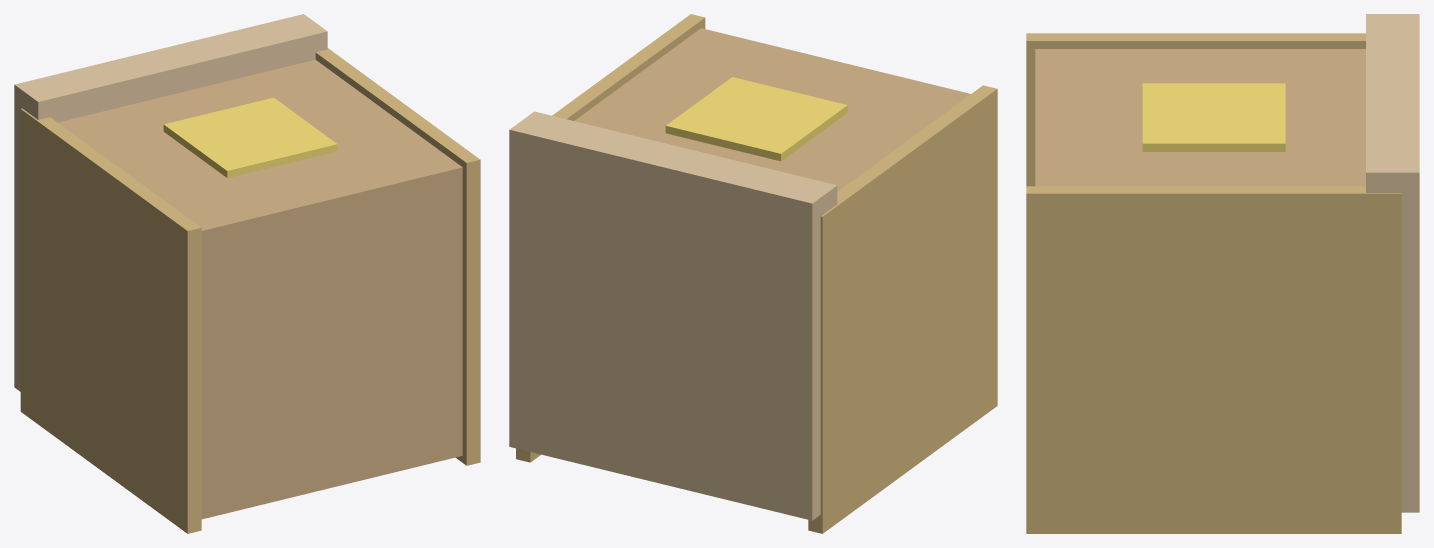
The model's file is SM_Item_Crate_01.glb.
3 views of the same model, side by side, from view 1: azimuth 30°, elevation 25°; view 2: azimuth 150°, elevation 25°; view 3: azimuth 270°, elevation 25° (orthographic). The views are drawn at different scales.
Visible parts, largest first — view 1: SM_Crate_Box, SM_Crate_EdgeY_0, SM_Crate_Lid, SM_Crate_EdgeY_1, SM_Crate_TopEmblem; view 2: SM_Crate_Lid, SM_Crate_EdgeY_0, SM_Crate_Box, SM_Crate_TopEmblem, SM_Crate_EdgeY_1; view 3: SM_Crate_EdgeY_1, SM_Crate_Box, SM_Crate_Lid, SM_Crate_TopEmblem, SM_Crate_EdgeY_0.
Part boxes in pixels (x1=…): SM_Crate_Box: x1=58, y1=59, x2=462, y2=519; SM_Crate_EdgeY_0: x1=20, y1=108, x2=201, y2=533; SM_Crate_Lid: x1=14, y1=14, x2=327, y2=391; SM_Crate_EdgeY_1: x1=315, y1=48, x2=480, y2=465; SM_Crate_TopEmblem: x1=163, y1=97, x2=337, y2=177; SM_Crate_Lid: x1=509, y1=111, x2=837, y2=520; SM_Crate_EdgeY_0: x1=808, y1=85, x2=997, y2=533; SM_Crate_Box: x1=574, y1=28, x2=970, y2=191; SM_Crate_TopEmblem: x1=665, y1=77, x2=847, y2=161; SM_Crate_EdgeY_1: x1=516, y1=14, x2=705, y2=462; SM_Crate_EdgeY_1: x1=1026, y1=186, x2=1401, y2=533; SM_Crate_Box: x1=1035, y1=49, x2=1365, y2=186; SM_Crate_Lid: x1=1366, y1=14, x2=1419, y2=512; SM_Crate_TopEmblem: x1=1142, y1=83, x2=1285, y2=151; SM_Crate_EdgeY_0: x1=1026, y1=33, x2=1365, y2=186.
Size of the model in its own units: 0.85 by 0.89 by 0.88.
